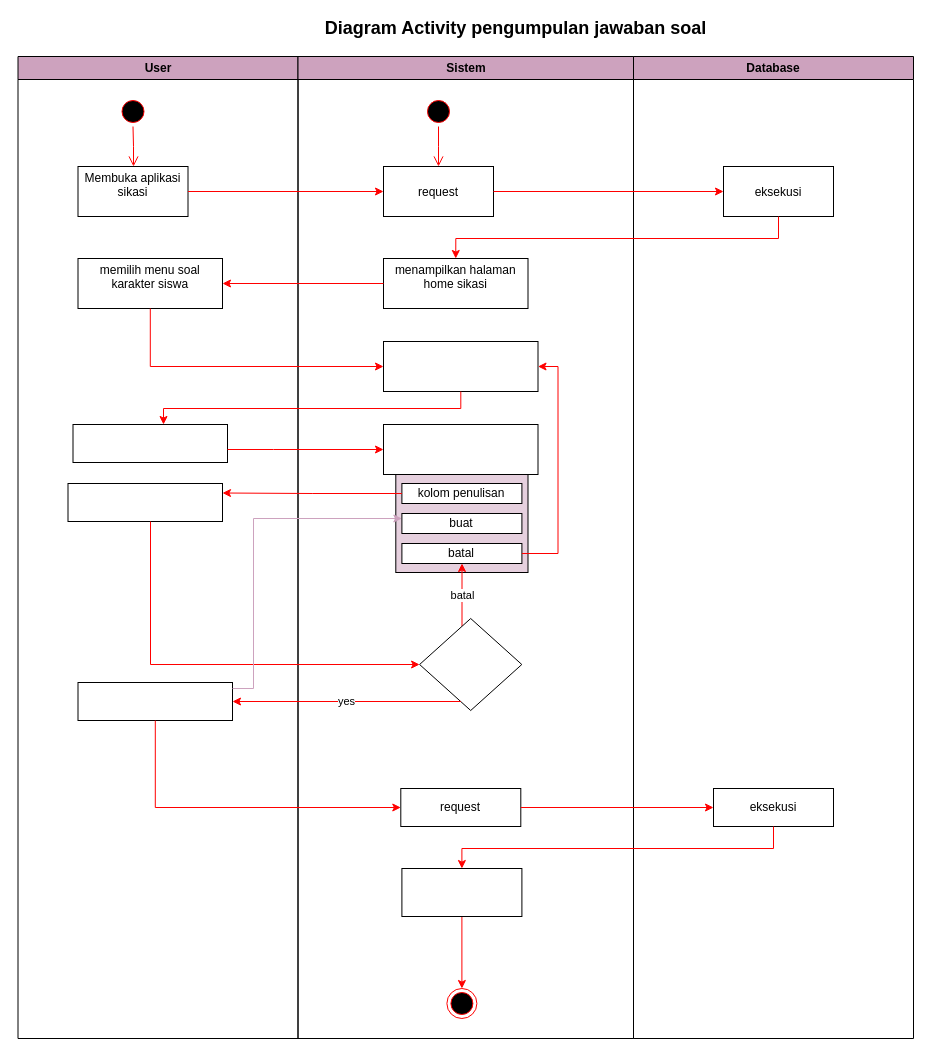
The diagram is 931 pixels wide and 1056 high, and some of its shapes have lost their labels. Here are the shapes that lost their labels. From the top down, the centre of each, then its label:
At point (460, 366): "menampilkan halaman soal karakter siswa".
At point (150, 443): "klik tambahkan soal".
At point (460, 449): "menampilkan kolom untuk penulisan soal".
At point (144, 502): "menulis link soal yang akan dibagikan kpd siswa".
At point (470, 664): "bagikan kepada siswa?".
At point (154, 701): "klik tombol buat".
At point (461, 892): "menampilkan soal yang telah dibuat pada halaman soal".
